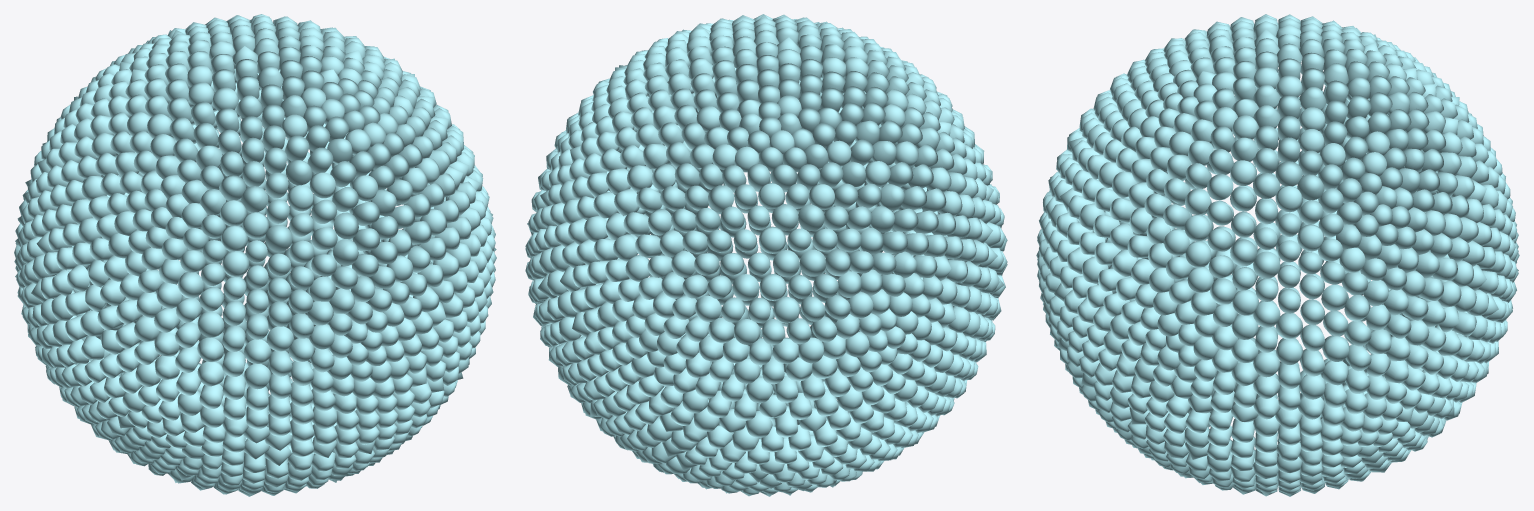
File: tRNA.fbx
3 views of the same model, side by side, from view 1: azimuth 30°, elevation 25°; view 2: azimuth 150°, elevation 25°; view 3: azimuth 270°, elevation 25° (orthographic).
Parts seen in each view (by area): view 1: MayaASCII:MASH1_ReproMesh; view 2: MayaASCII:MASH1_ReproMesh; view 3: MayaASCII:MASH1_ReproMesh.
Part boxes in pixels (x1,y1,x2,y2): MayaASCII:MASH1_ReproMesh: (14,14,496,496); MayaASCII:MASH1_ReproMesh: (525,14,1007,496); MayaASCII:MASH1_ReproMesh: (1036,14,1519,496).
Bounding box in the file's own units: 26.47 × 26.46 × 26.5.
